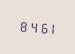eight: (18, 18, 26, 33)
four: (27, 19, 35, 33)
one: (45, 20, 53, 35)
six: (36, 19, 44, 34)
